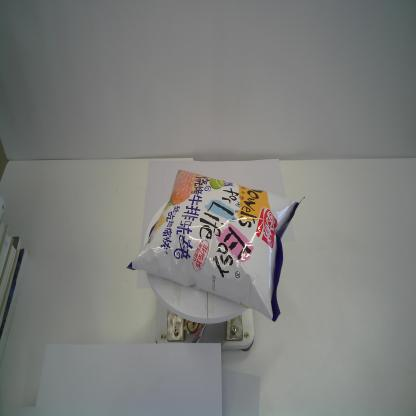Puffed Food: (126, 168, 306, 321)
